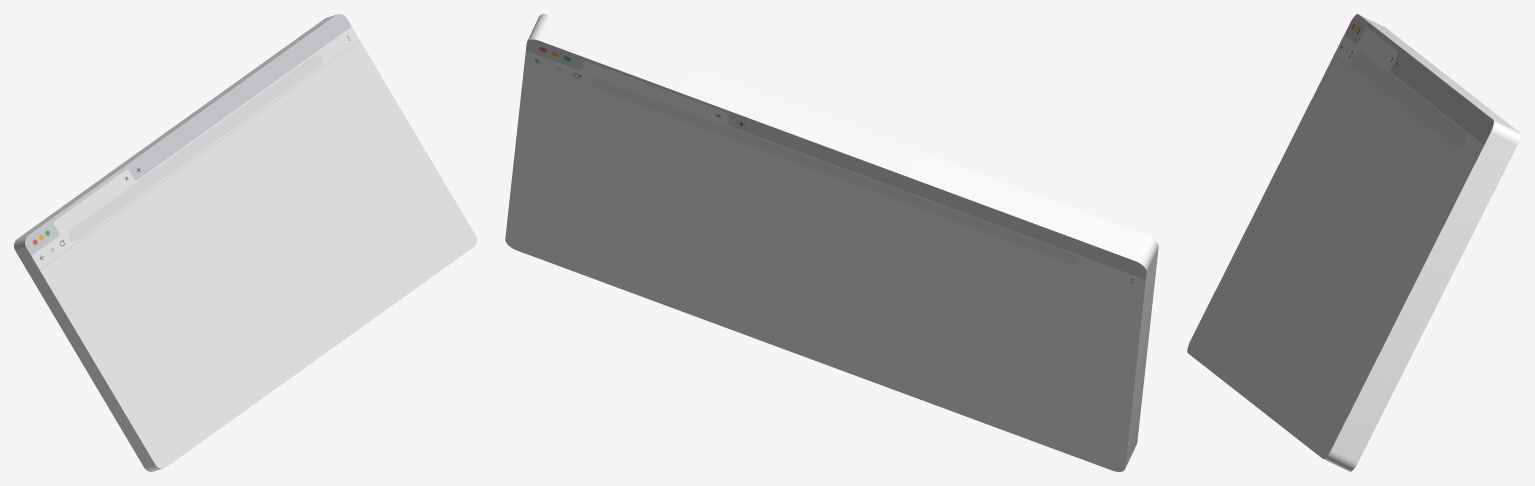
The model's file is 1day1web.glb.
3 views of the same model, side by side, from view 1: azimuth 30°, elevation 25°; view 2: azimuth 150°, elevation 25°; view 3: azimuth 270°, elevation 25° (orthographic). The views are drawn at different scales.
Parts seen in each view (by area): view 1: web-web, web-background; view 2: web-web, web-background; view 3: web-web, web-background.
Boxes of the visible parts, left/top/right/bottom form: web-web: left=25, top=14, right=476, bottom=468; web-background: left=14, top=14, right=336, bottom=471; web-web: left=505, top=39, right=1146, bottom=471; web-background: left=527, top=14, right=1158, bottom=468; web-web: left=1187, top=14, right=1493, bottom=458; web-background: left=1323, top=15, right=1520, bottom=471.
Bounding box in the file's own units: 290 × 196 × 135.
2 materials, 1 textured.
